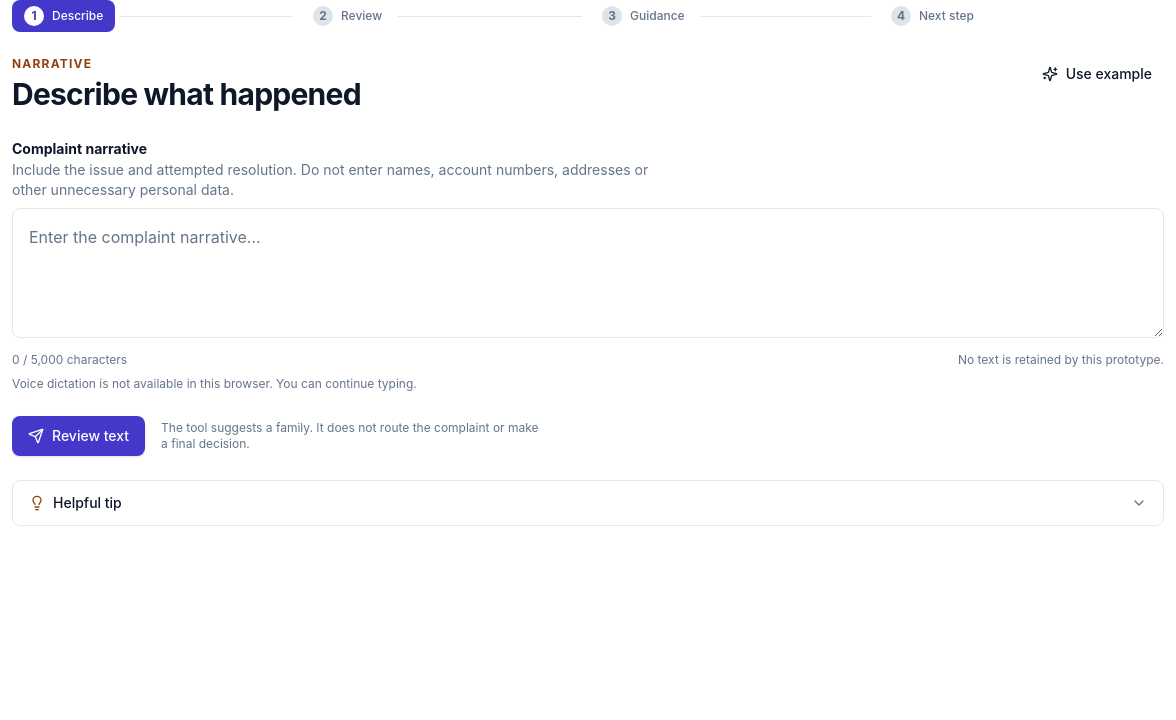
Scenario: ClassificationPage › does not fabricate a result while offline
Type "Test complaint" into the text box labelled "Complaint narrative" at (588, 273), box [12, 208, 1164, 338]
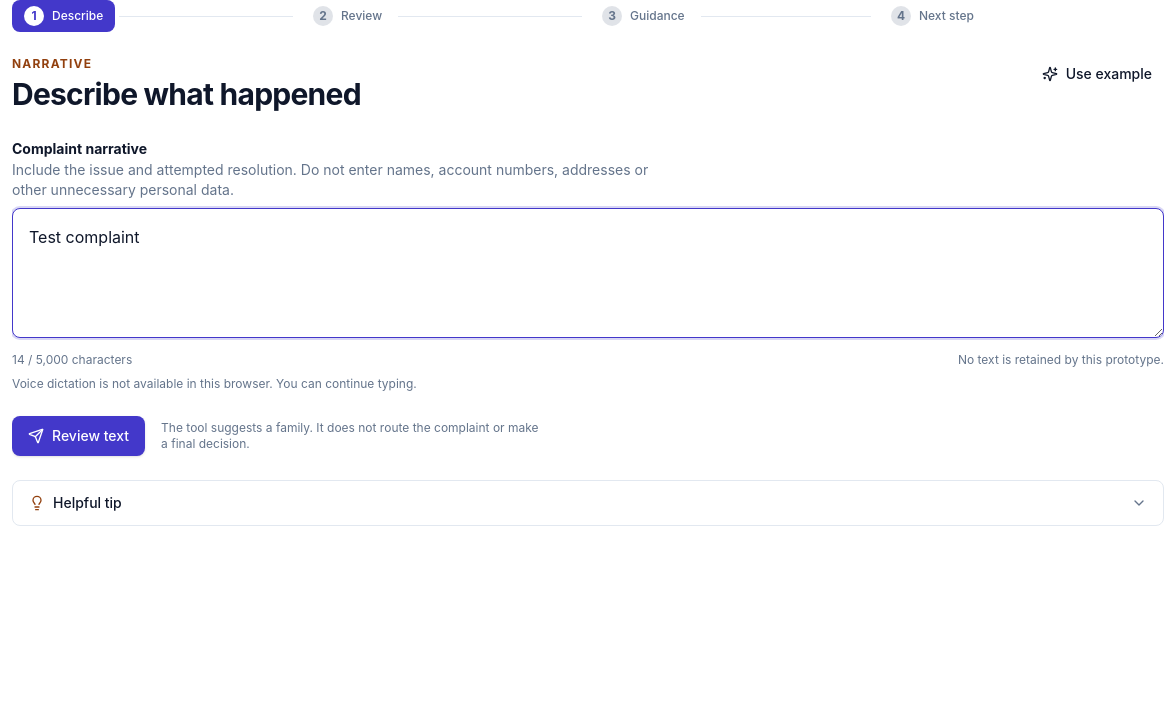
Click the button "Review text" at (79, 436), box [12, 416, 145, 456]
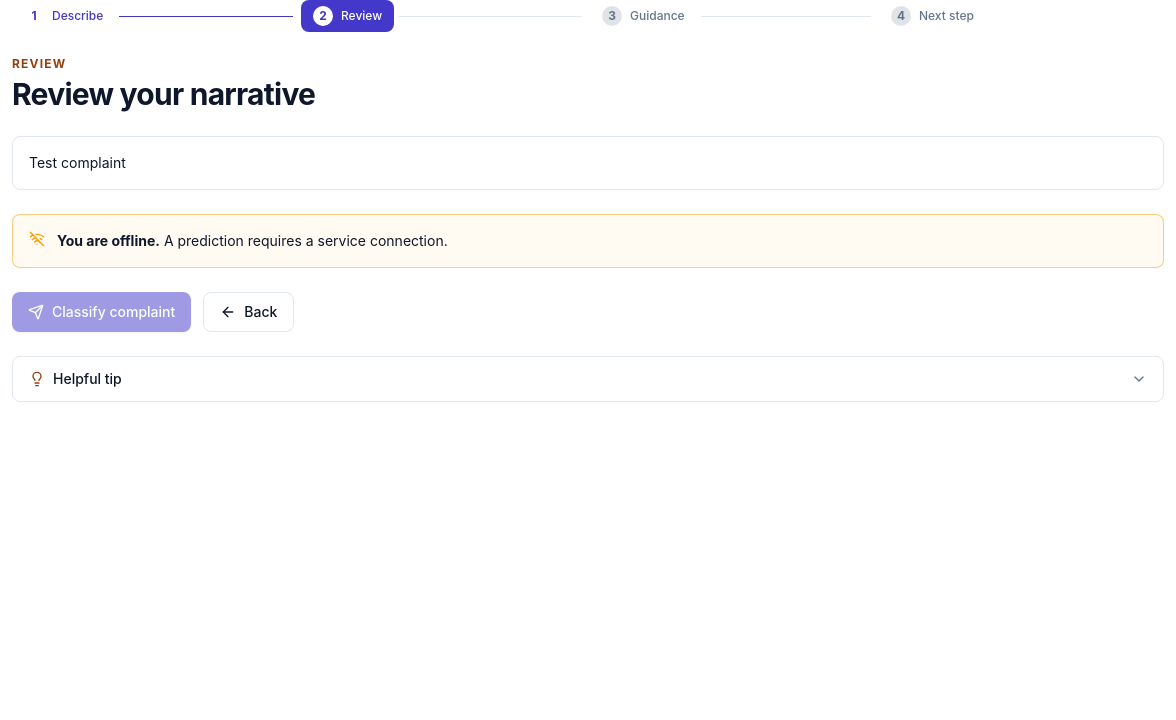
Expected: the text "You are offline." is shown, [57, 232, 160, 249]
Expected: the button "Classify complaint" is disabled, [12, 292, 191, 332]
